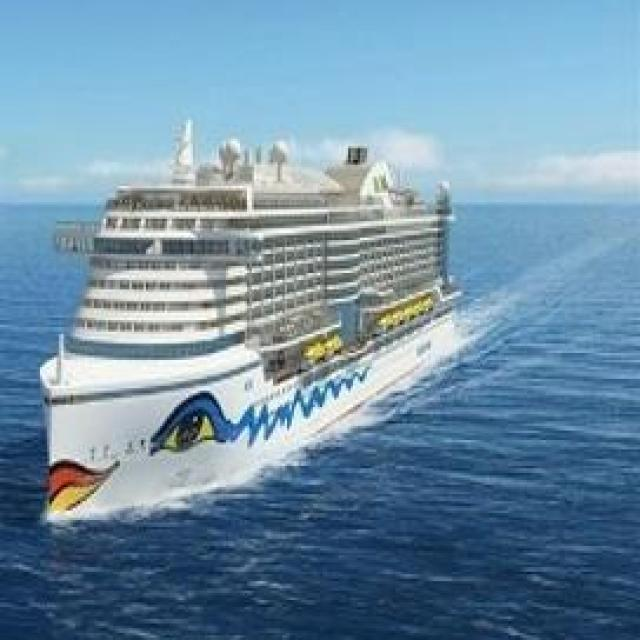passenger ship: (33, 114, 475, 527)
